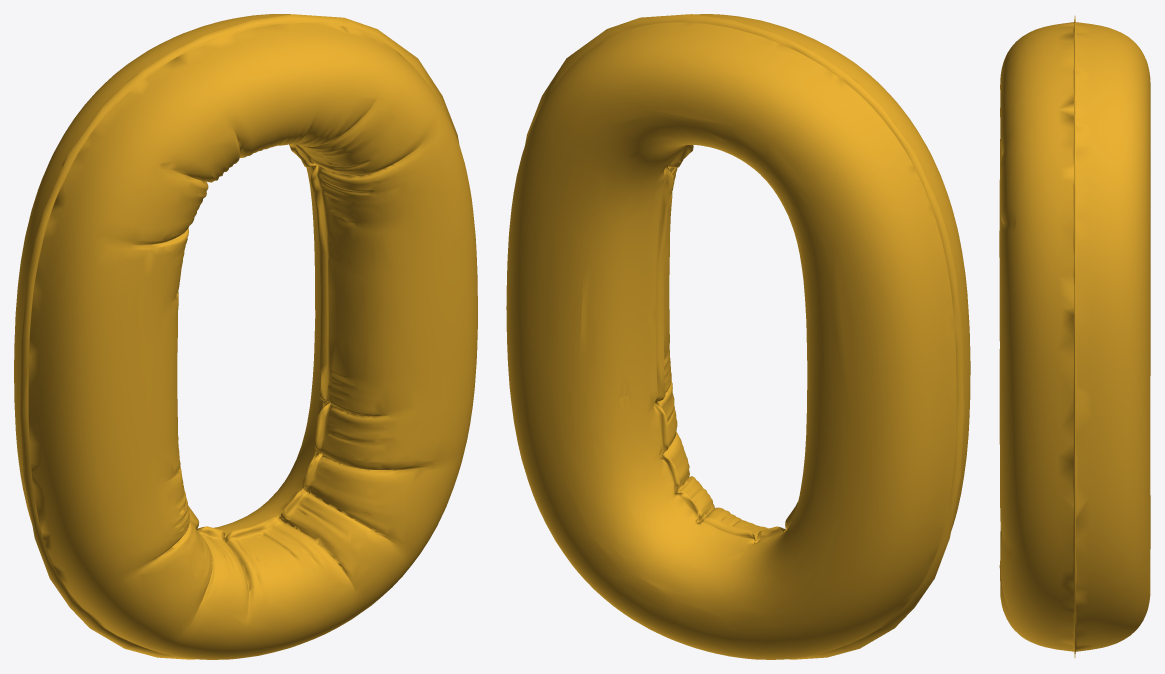
File: zahlen-gold-0-gruppe.glb
3 renders of one model, left to right at view 1: azimuth 30°, elevation 25°; view 2: azimuth 150°, elevation 25°; view 3: azimuth 270°, elevation 25°, orthographic. The views are drawn at different scales.
Visible parts, largest first — view 1: nr0; view 2: nr0; view 3: nr0.
Boxes of the visible parts, box(x1,y1,x2,y2) form: nr0: box(14, 14, 477, 659); nr0: box(506, 14, 970, 659); nr0: box(999, 16, 1150, 657).
Bounding box in the file's own units: 0.4599 × 0.6139 × 0.1414.
